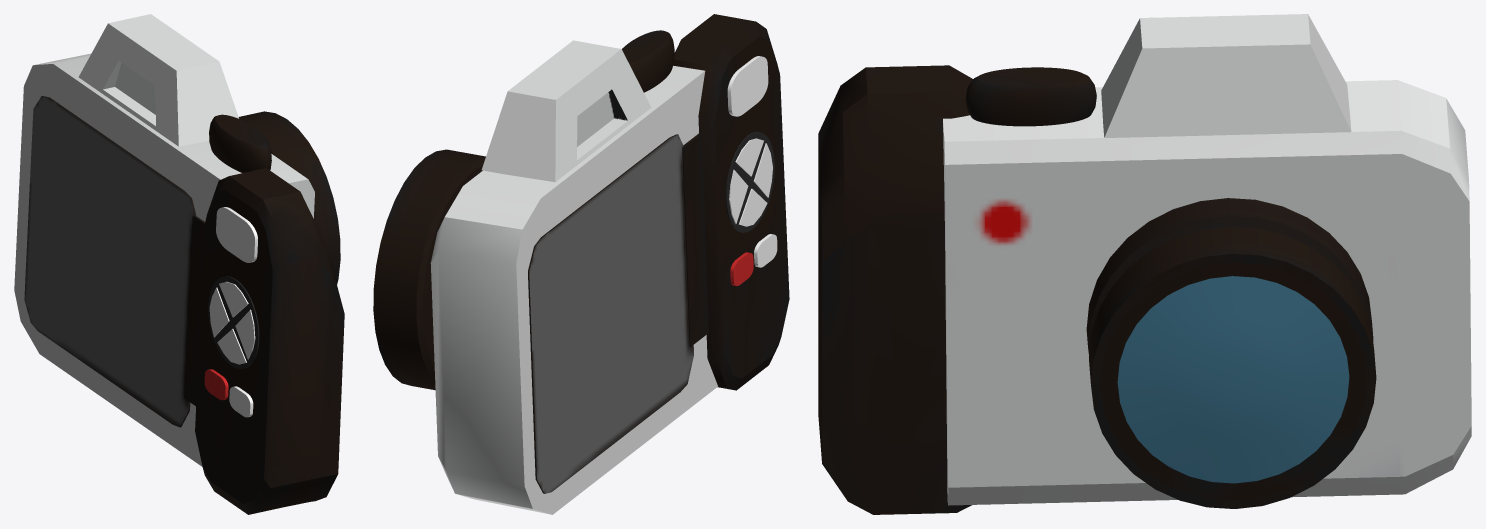
Rendered from cam.glb.
3 renders of one model, left to right at view 1: azimuth 30°, elevation 25°; view 2: azimuth 150°, elevation 25°; view 3: azimuth 270°, elevation 25°, orthographic. The views are drawn at different scales.
Size of the model in its own units: 2.61 by 4.91 by 6.12.
1 material, 1 textured.
